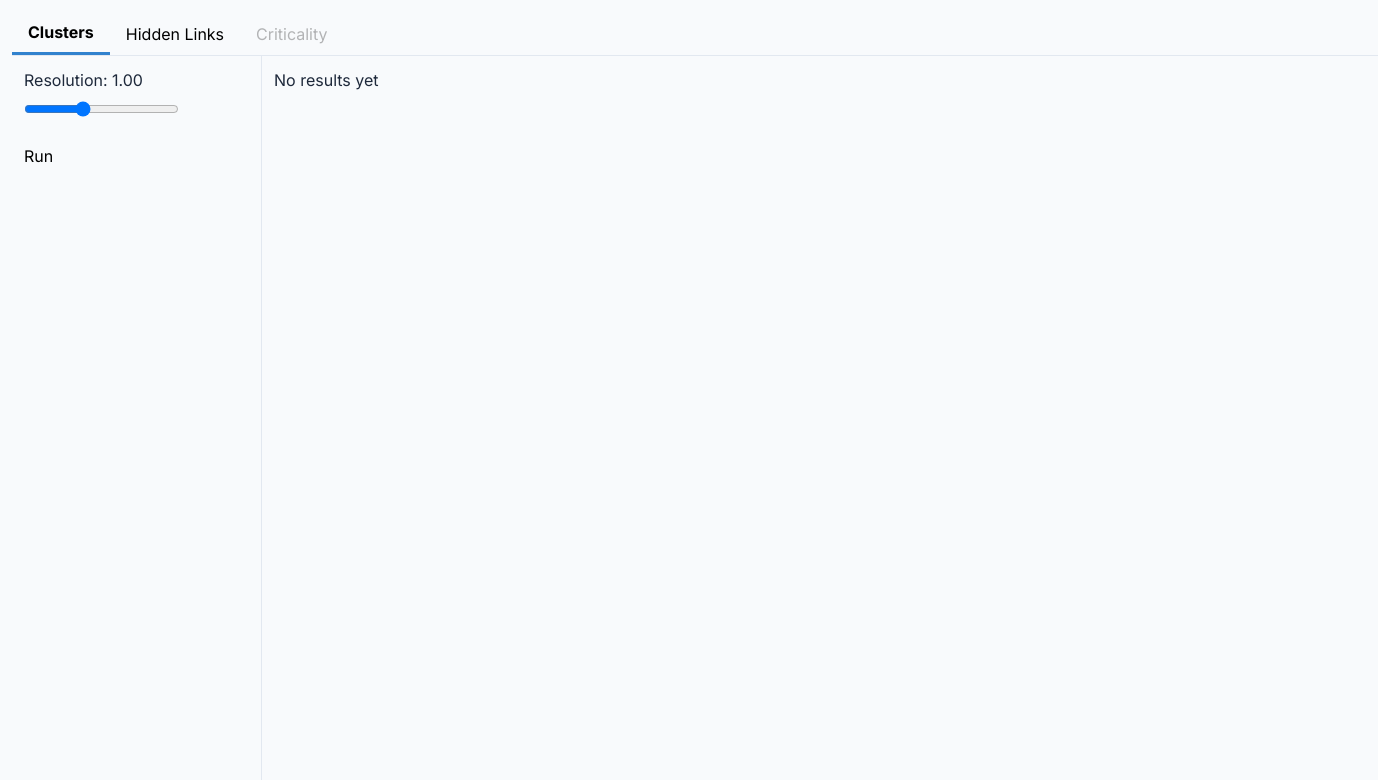
Test: AdvancedAnalysisPanel › runs cluster analysis and shows summary
Click the button "Run".
click(39, 156)  # box 24,144 -> 53,168
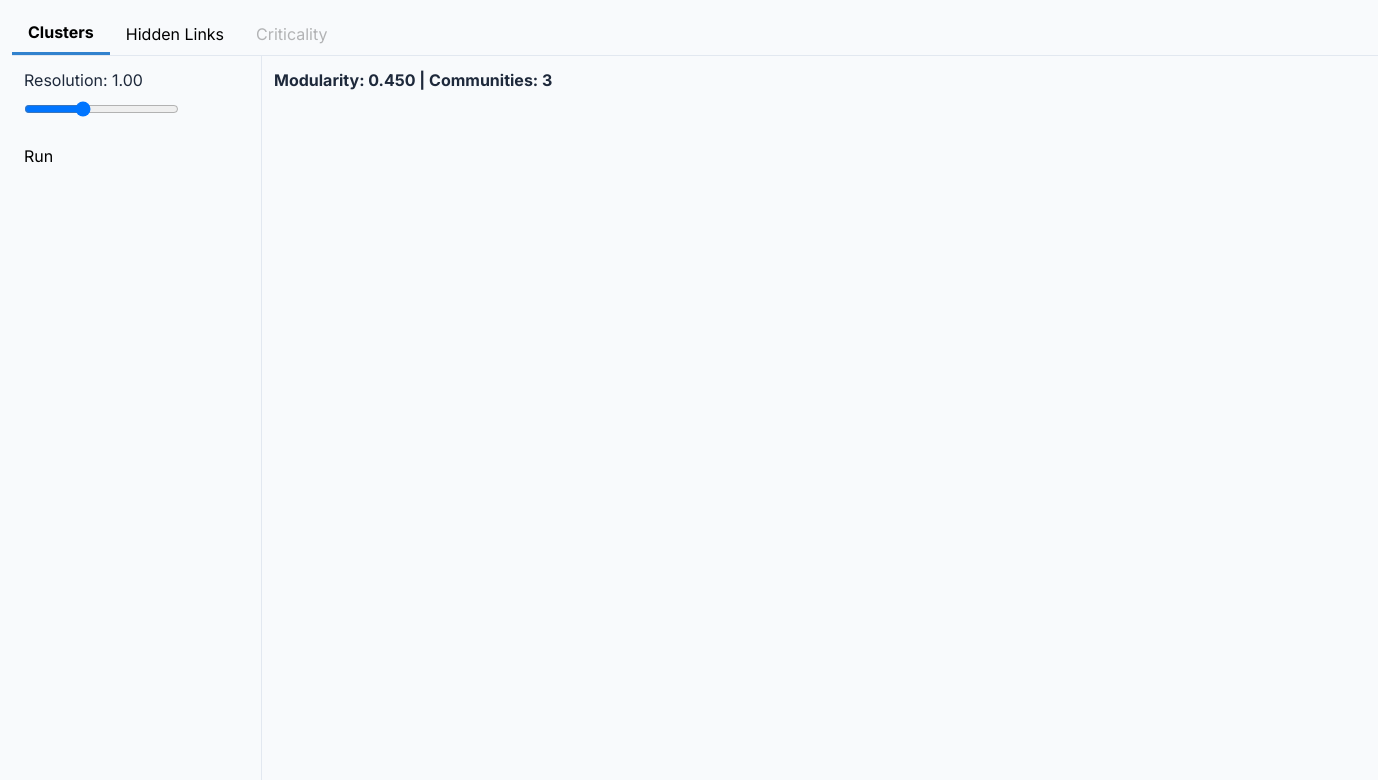
Expected: the text "Modularity: 0.450 | Communities: 3" is shown, 274,70 -> 552,90
